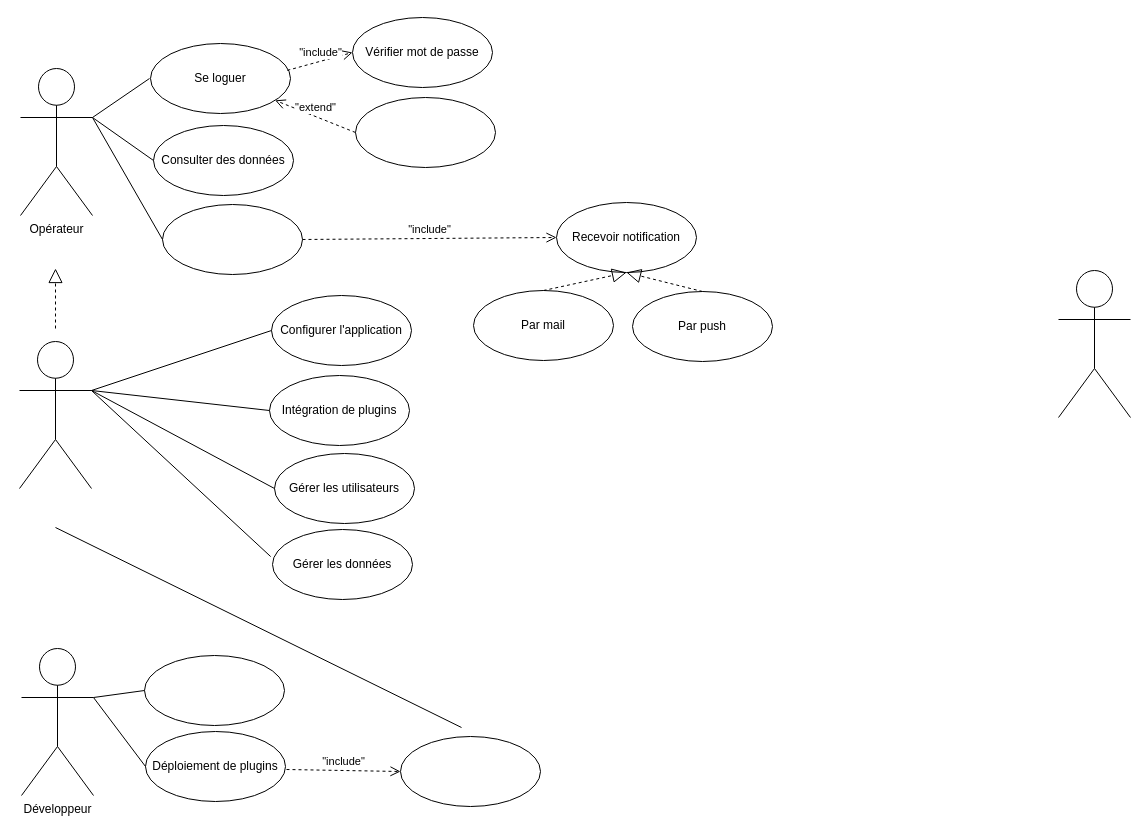
Some shapes in this 1148 by 834 pixel diagram are drawn without their labels. The centre of each missing label's shape, as x and y in pixels:
"Administrateur" belongs at pixel 55 414.
"Afficher échec Login" belongs at pixel 425 132.
"Développement de plugins" belongs at pixel 214 690.
"Gerer les alarmes" belongs at pixel 232 239.
"Lionk" belongs at pixel 1094 344.
"Transmission" belongs at pixel 470 771.
